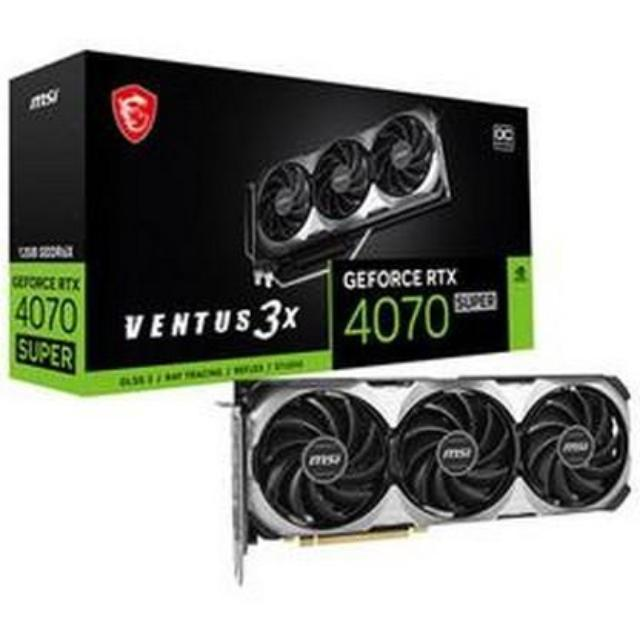GPU: (222, 362, 636, 547)
